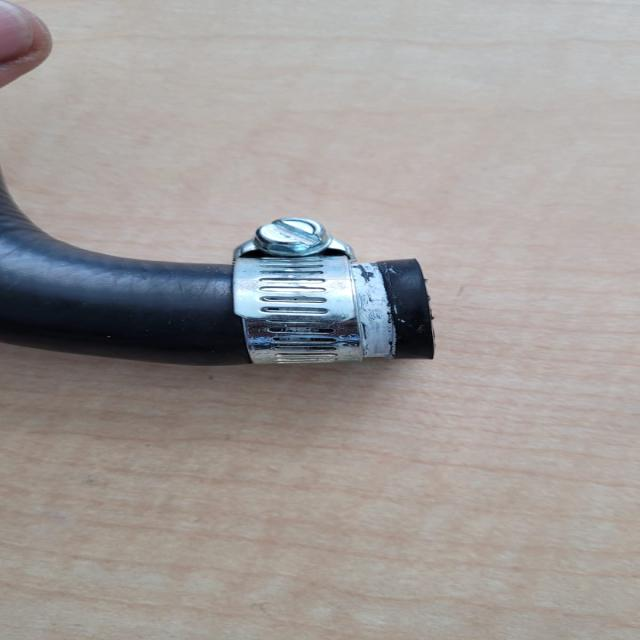clamp: (230, 220, 367, 367)
pipe: (354, 264, 434, 360)
